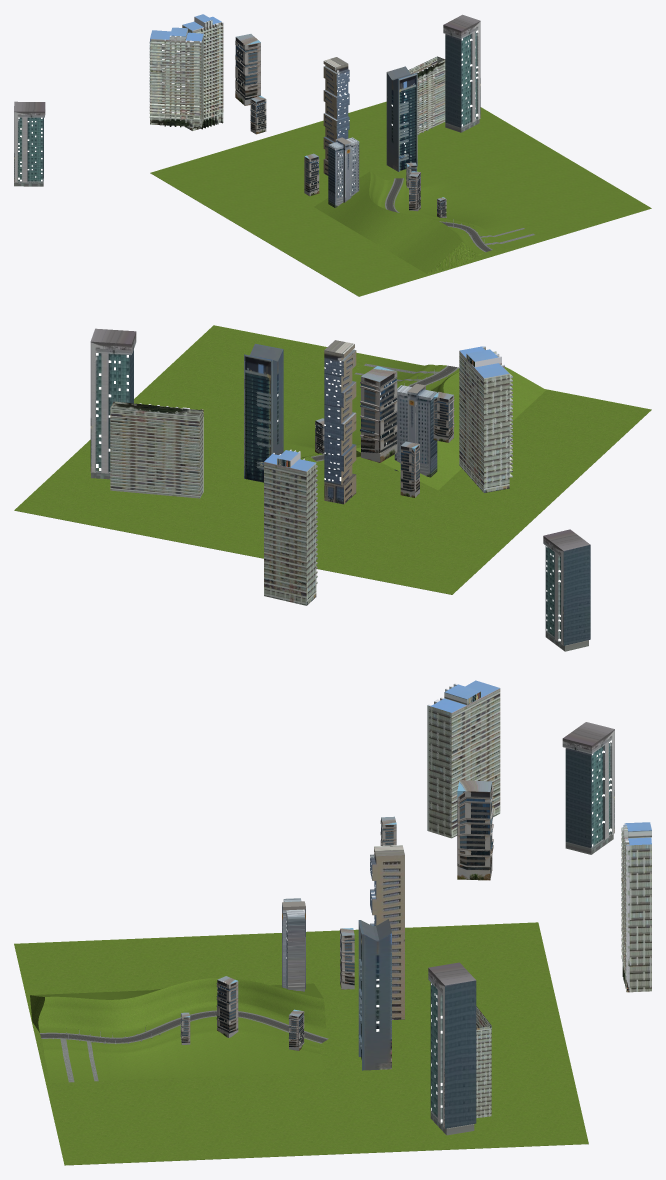
File: skyline_far.v2.glb
3 renders of one model, top to bottom at view 1: azimuth 30°, elevation 25°; view 2: azimuth 150°, elevation 25°; view 3: azimuth 270°, elevation 25°, orthographic. The views are drawn at different scales.
Parts seen in each view (by area): view 1: GROUND 01, windowpanel; view 2: GROUND 01, windowpanel; view 3: GROUND 01.
Boxes of the visible parts, left/top/right/bottom form: GROUND 01: left=14, top=14, right=651, bottom=296; windowpanel: left=18, top=30, right=478, bottom=196; GROUND 01: left=14, top=325, right=651, bottom=651; windowpanel: left=96, top=353, right=560, bottom=641; GROUND 01: left=14, top=680, right=651, bottom=1165.
Size of the model in its own units: 1087 by 368 by 892.
Materials: 22 (15 with a texture image).
